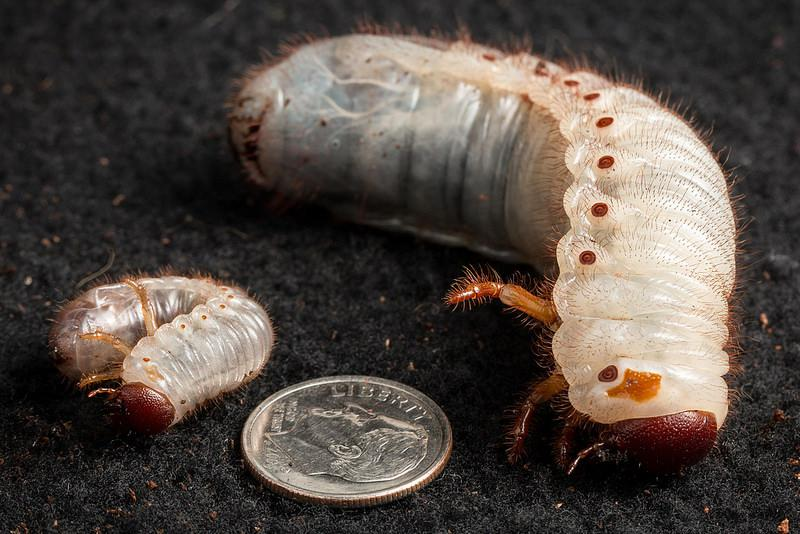grub: (45, 270, 260, 426)
